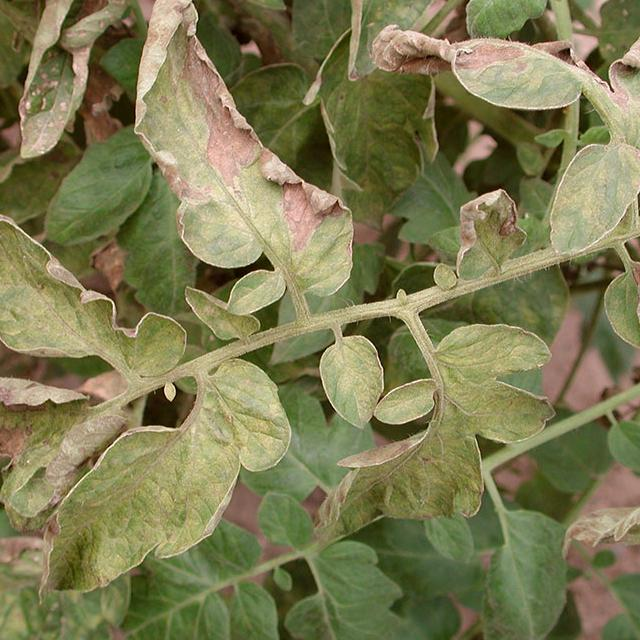Tomato mold leaf: (129, 0, 359, 299), (36, 351, 294, 599), (0, 191, 191, 380), (375, 12, 640, 144), (538, 140, 640, 264), (316, 330, 398, 430), (449, 186, 527, 286), (369, 375, 455, 429)
